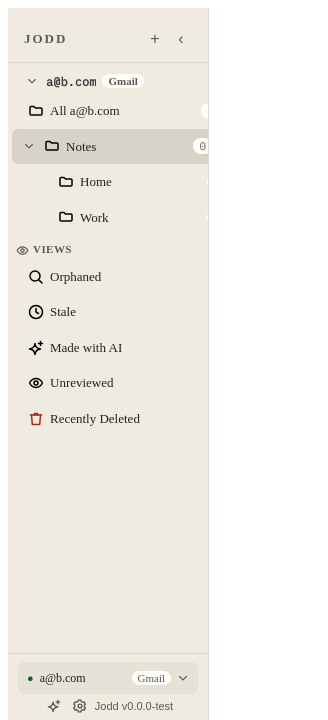
Test case: folder context menu › is disabled when the folder is hidden from AI
Expected: the text titled "Work" is shown, [80,210,109,224]
Right-click the button titled "Work" at point(66, 217), box [58,209,226,225]
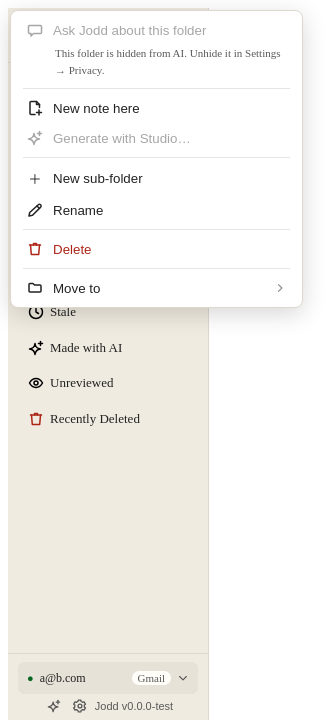
Result: the button "Ask Jodd about this folder" is disabled at [15,15,298,45]
